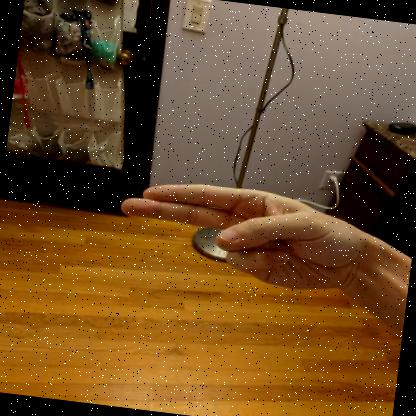H: (120, 184, 359, 298)
